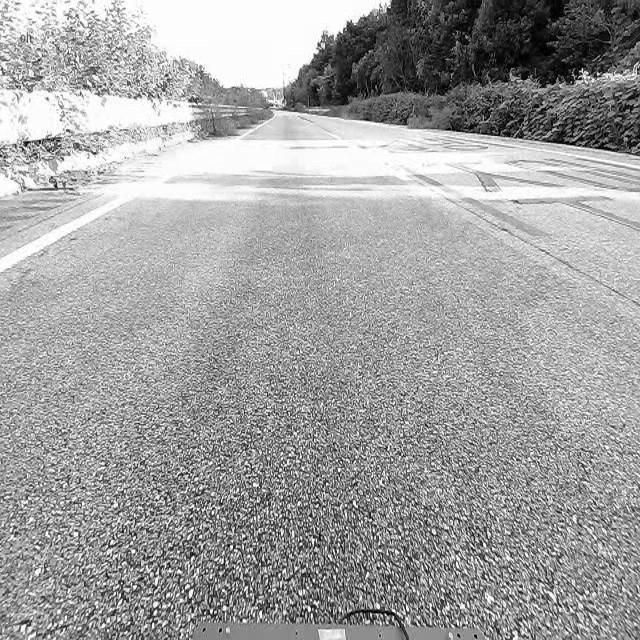Lane: (0, 186, 138, 278), (0, 195, 136, 274)
